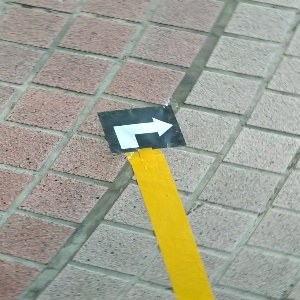right: (97, 104, 185, 154)
